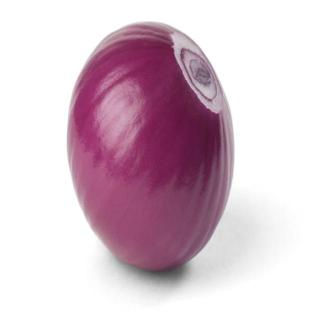Bawang Merah: (62, 18, 238, 276)
